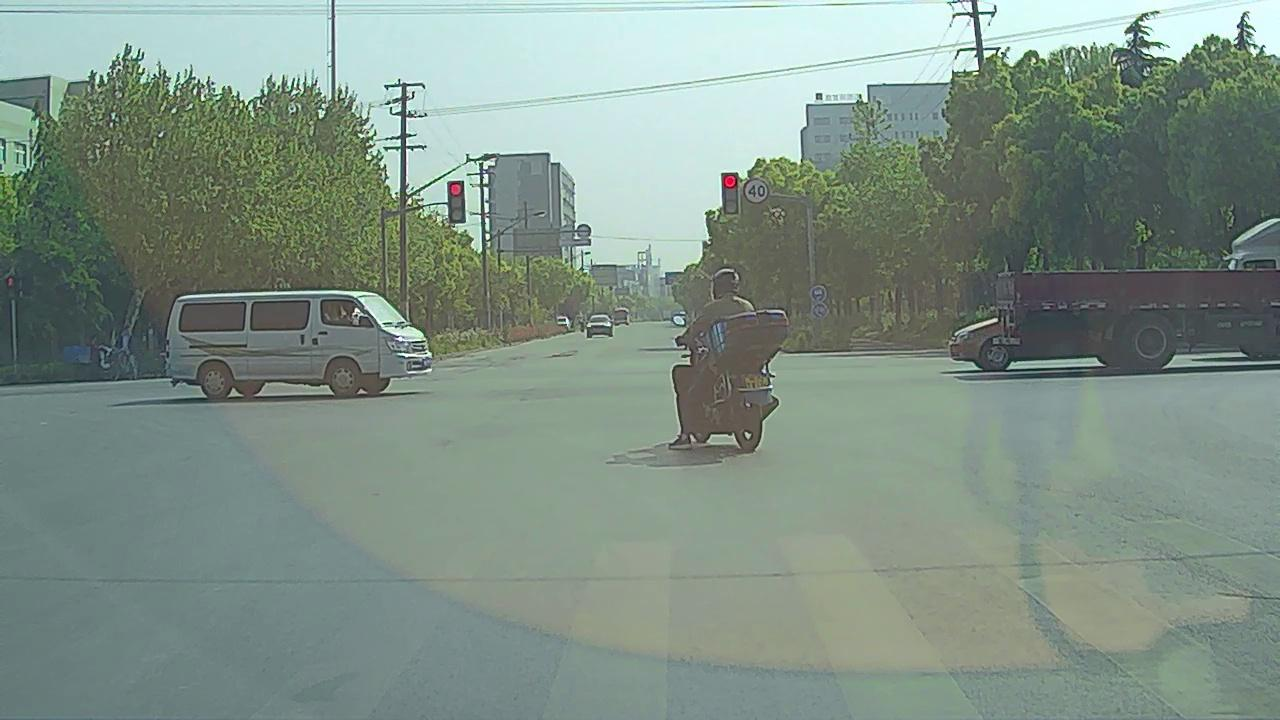traffic_light: (721, 172, 740, 214), (449, 182, 465, 221)
